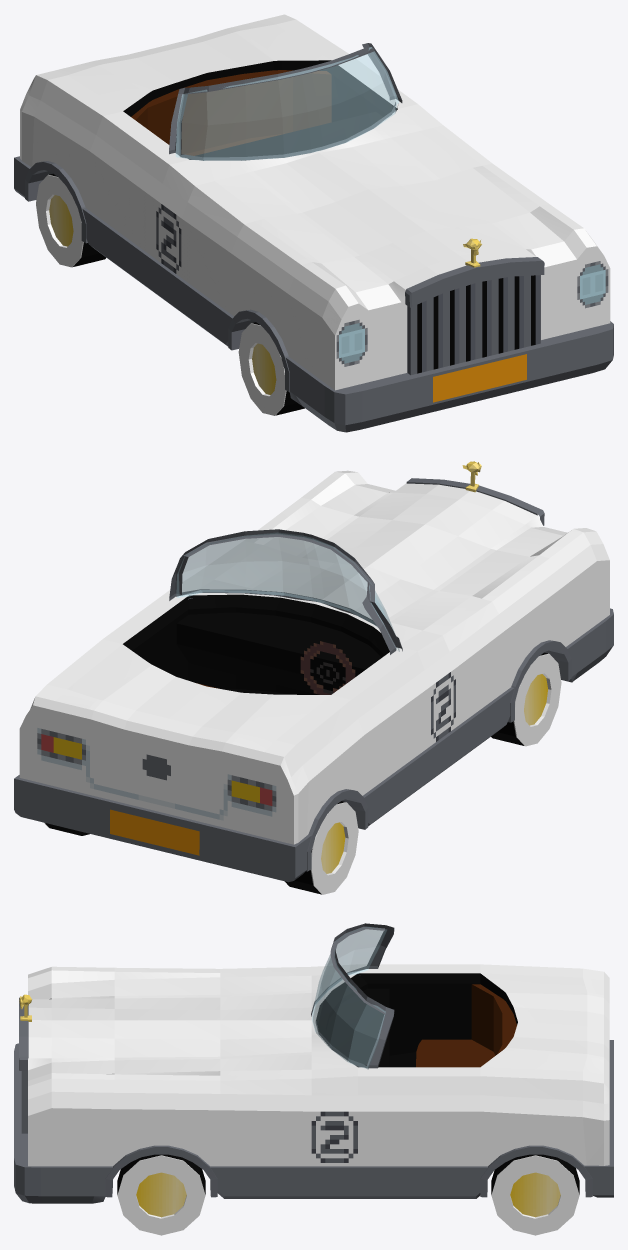
Rendered from rollsshmoyce Textured.glb.
3 renders of one model, top to bottom at view 1: azimuth 30°, elevation 25°; view 2: azimuth 150°, elevation 25°; view 3: azimuth 270°, elevation 25°, orthographic. The views are drawn at different scales.
Visible parts, largest first — view 1: Mainbody, RearWheel R, FrontWheel R; view 2: Mainbody, RearWheel R, FrontWheel R; view 3: Mainbody, FrontWheel L, RearWheel L.
Part boxes in pixels (x1,y1,x2,y2): Mainbody: (14, 14, 613, 432); RearWheel R: (36, 173, 106, 267); FrontWheel R: (238, 322, 304, 415); Mainbody: (14, 461, 613, 882); RearWheel R: (285, 801, 358, 894); FrontWheel R: (491, 652, 561, 746); Mainbody: (14, 923, 613, 1203); FrontWheel L: (117, 1154, 205, 1235); RearWheel L: (491, 1154, 579, 1235).
Bounding box in the file's own units: 3.45 × 2.84 × 6.86.
1 material, 1 textured.
